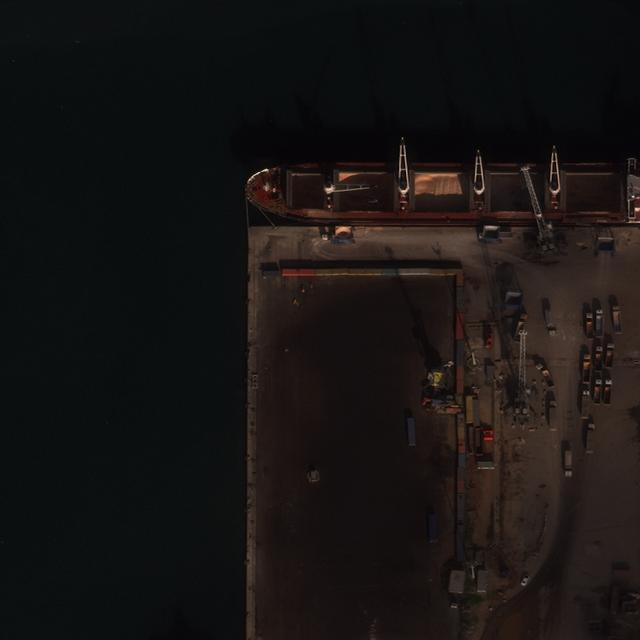Container Ship: (242, 162, 639, 224)
